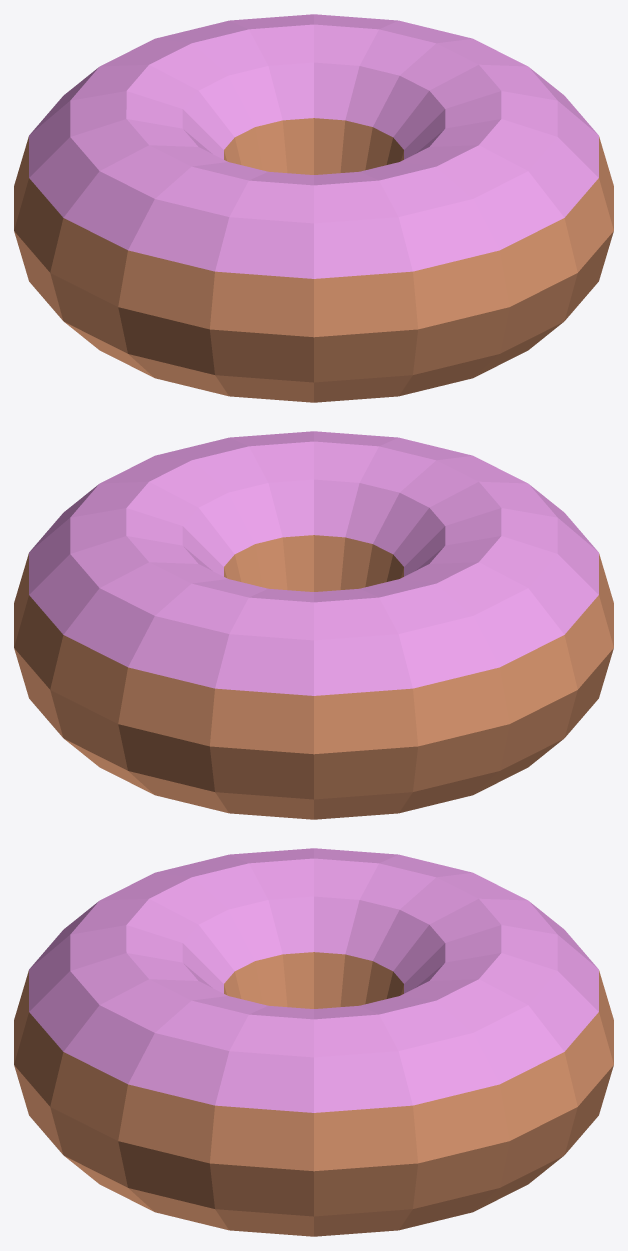
File: donutt.glb
3 views of the same model, one above another, from view 1: azimuth 30°, elevation 25°; view 2: azimuth 150°, elevation 25°; view 3: azimuth 270°, elevation 25° (orthographic).
Parts seen in each view (by area): view 1: Donut Frosting, Donut; view 2: Donut Frosting, Donut; view 3: Donut Frosting, Donut.
Part boxes in pixels (x1,y1,x2,y2): Donut Frosting: [29, 14, 598, 278]; Donut: [14, 118, 613, 402]; Donut Frosting: [29, 431, 598, 695]; Donut: [14, 535, 613, 819]; Donut Frosting: [29, 848, 598, 1112]; Donut: [14, 952, 613, 1236].
Size of the model in its own units: 0.16 by 0.06 by 0.1576.
